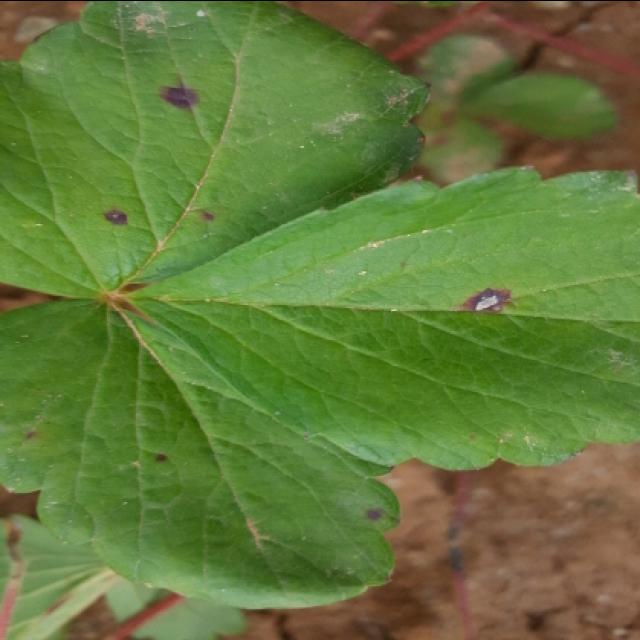Leaf Spot: (118, 161, 638, 470), (0, 2, 432, 300), (0, 295, 402, 609), (413, 101, 508, 183)
